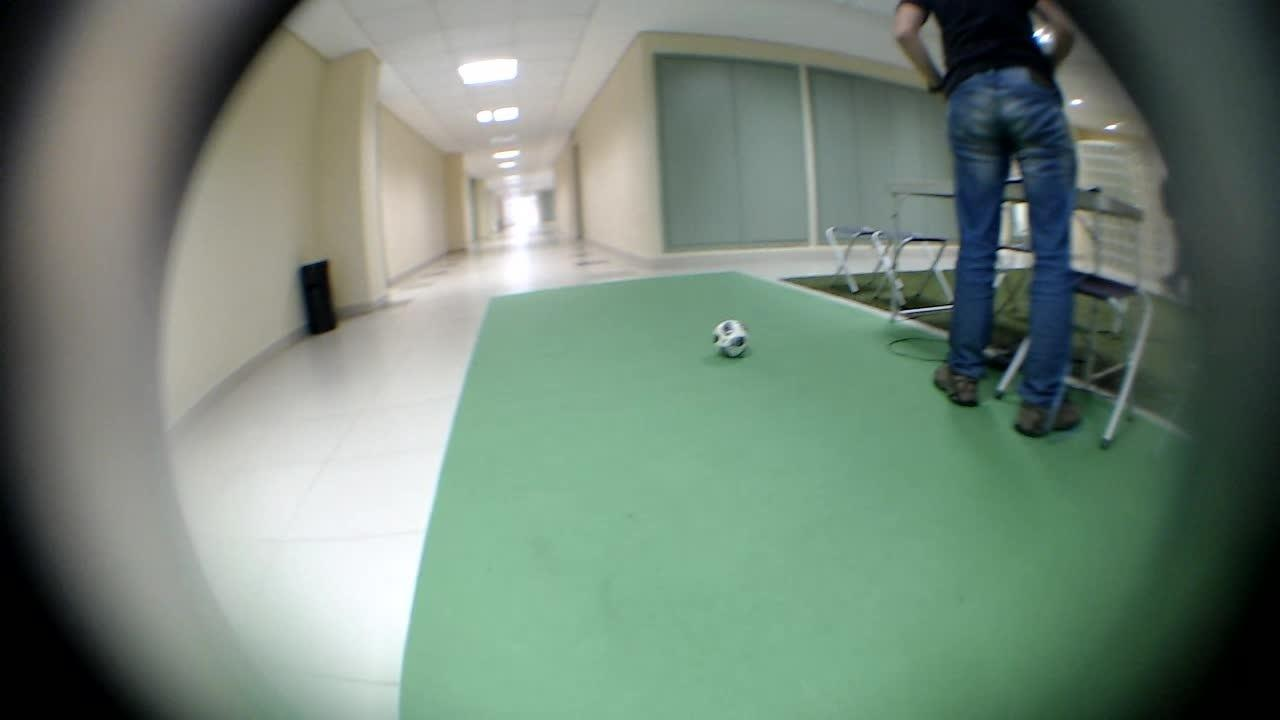ball: (699, 307, 753, 363)
